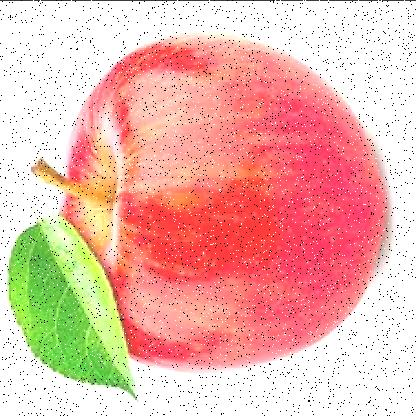apple: (64, 40, 368, 367)
